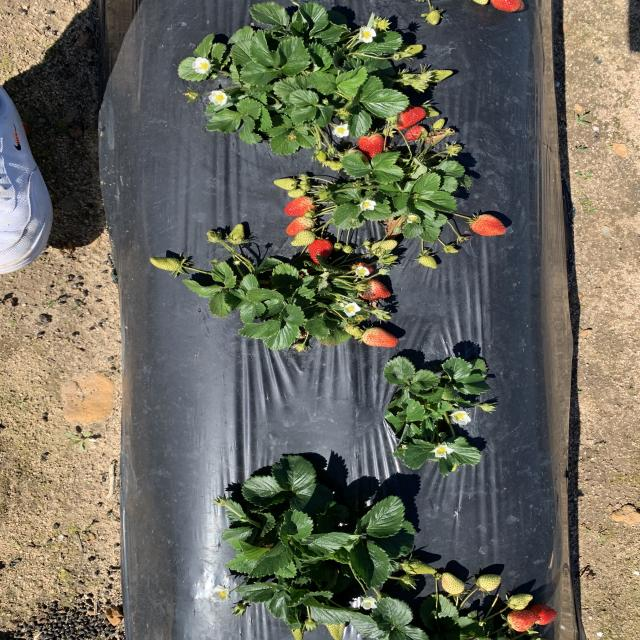unripe: (357, 132, 391, 163), (387, 102, 428, 127), (472, 214, 507, 236), (309, 237, 334, 265), (284, 196, 317, 216), (286, 217, 314, 236), (492, 0, 528, 14), (406, 125, 429, 141)
